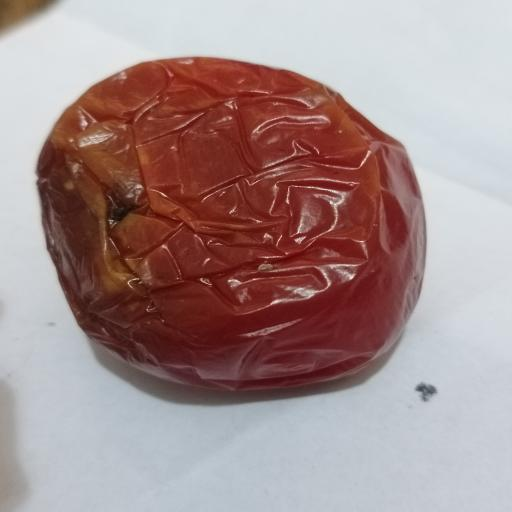spoiled: (37, 58, 425, 389)
